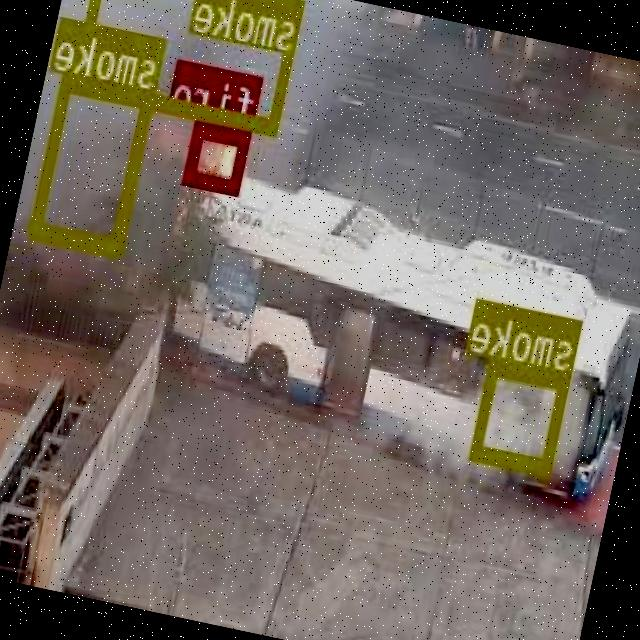fire: (186, 119, 253, 192)
smoke: (73, 0, 306, 133), (31, 73, 158, 254), (470, 356, 572, 474)
